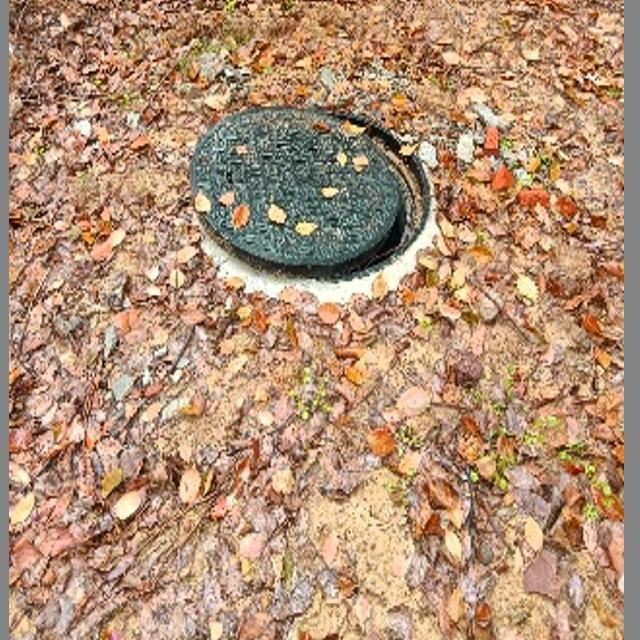uncovered: (187, 108, 429, 290)
